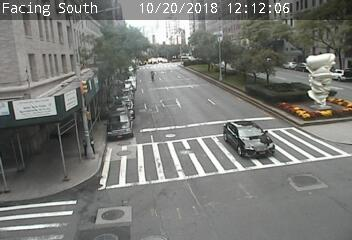car: (223, 121, 275, 158)
